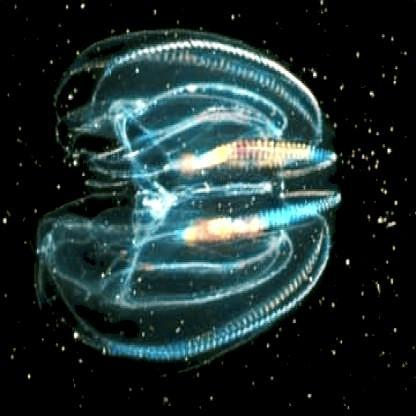Comb: (32, 30, 345, 376)
